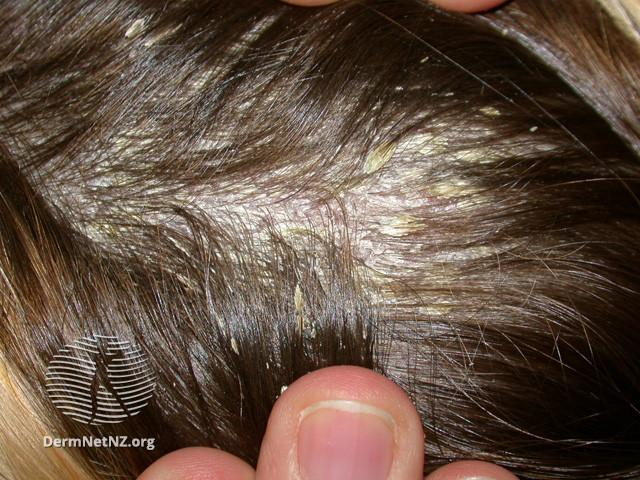Psoriasis: (29, 12, 562, 376)
